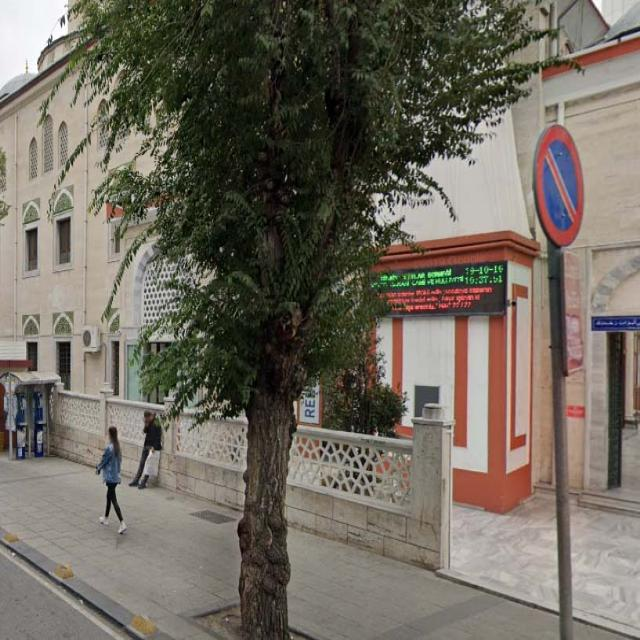parkyasak: (534, 124, 583, 247)
